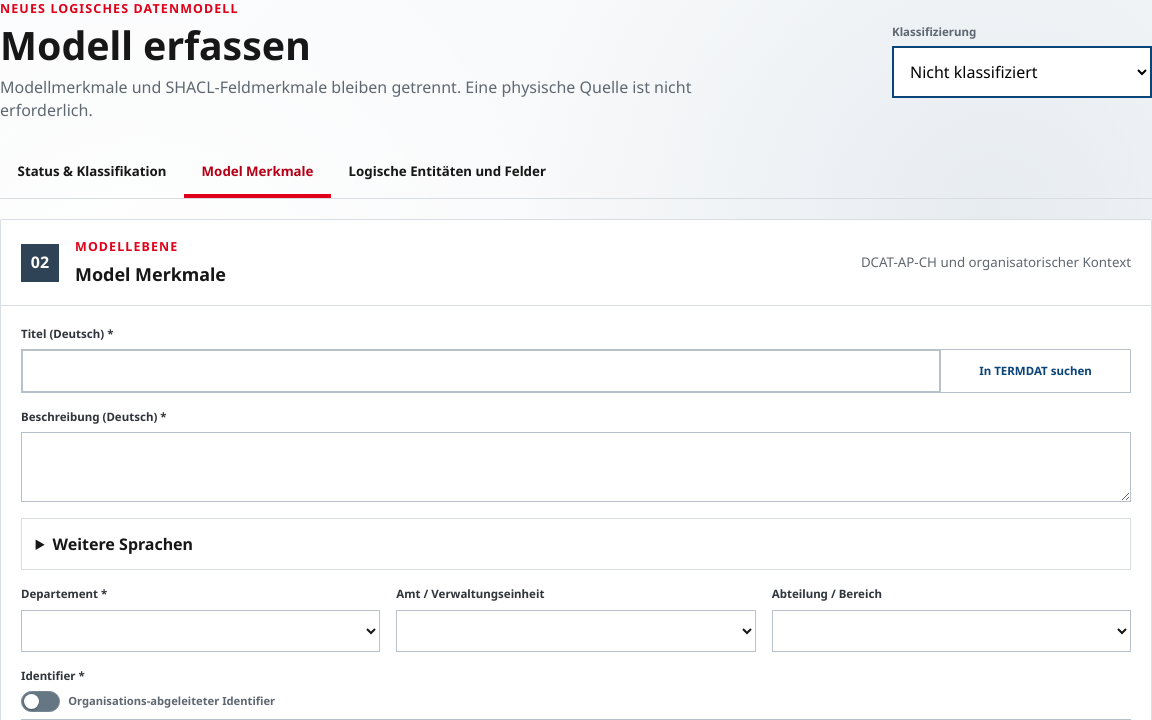
LogicalModelEditorComponent contracts › shows the DAAIF-style spinner while the automatic TERMDAT search is pending
This screenshot has width=1152, height=720.
Step 1. Type "panzer" into the field named "titleDe" → (481, 371), box top-left (22, 350), bottom-right (940, 392)
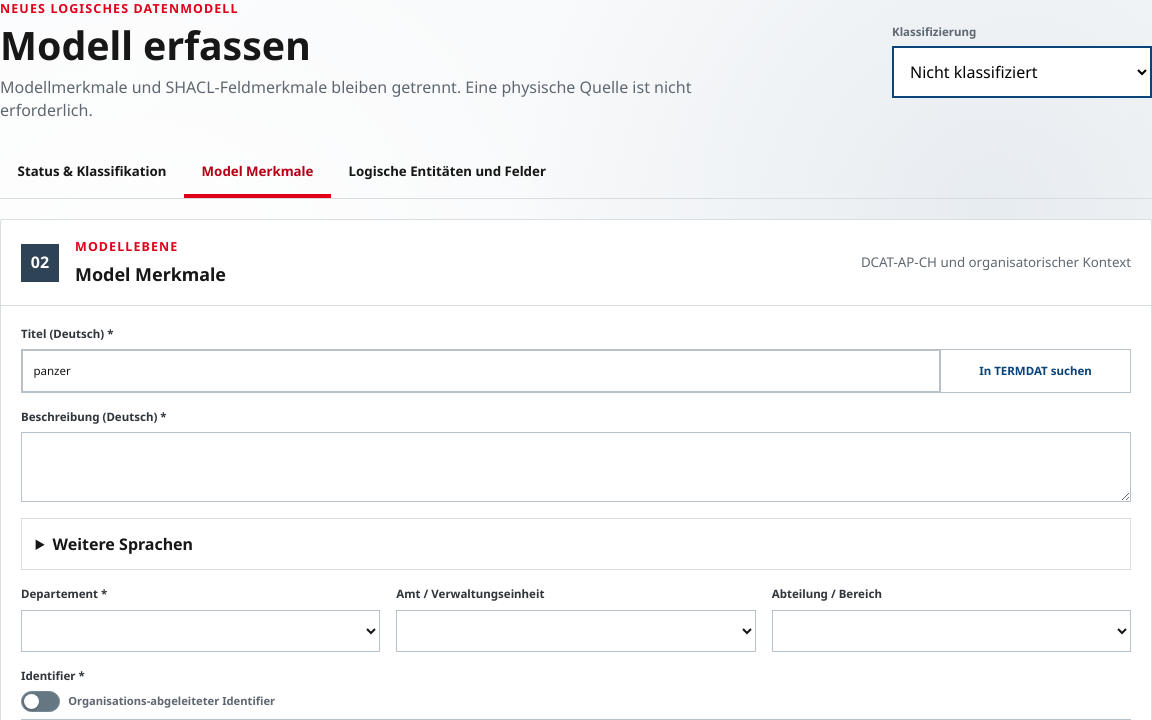
Step 2. Leave the field named "titleDe", box top-left (22, 350), bottom-right (940, 392)
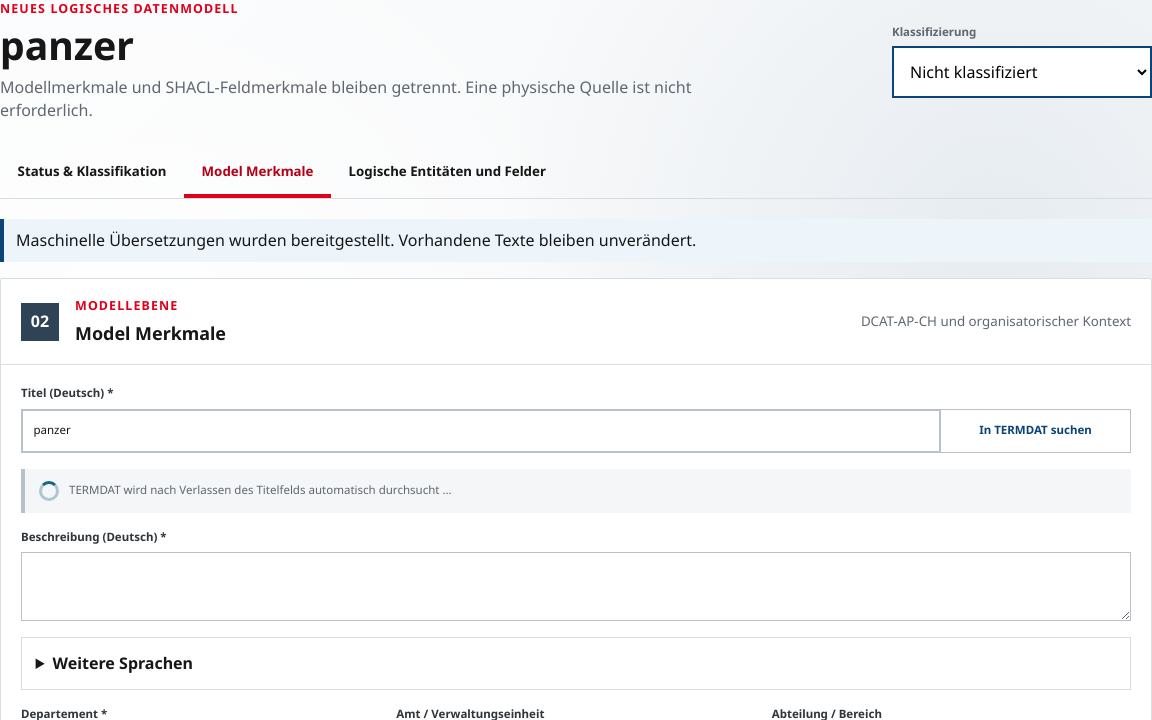
Result: the element with class "termdat-spinner" is shown at top-left (39, 480), bottom-right (59, 500)
Result: the text "TERMDAT wird nach Verlassen des Titelfelds automatisch durchsucht" is shown at top-left (69, 482), bottom-right (452, 497)
